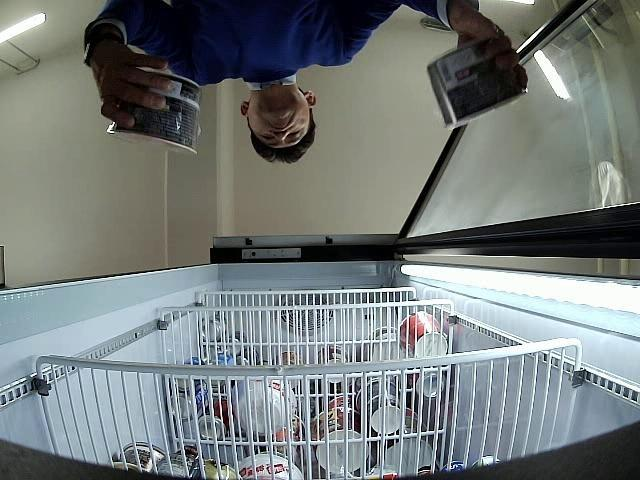07_buldak_L: (426, 36, 528, 129), (108, 70, 202, 156)
